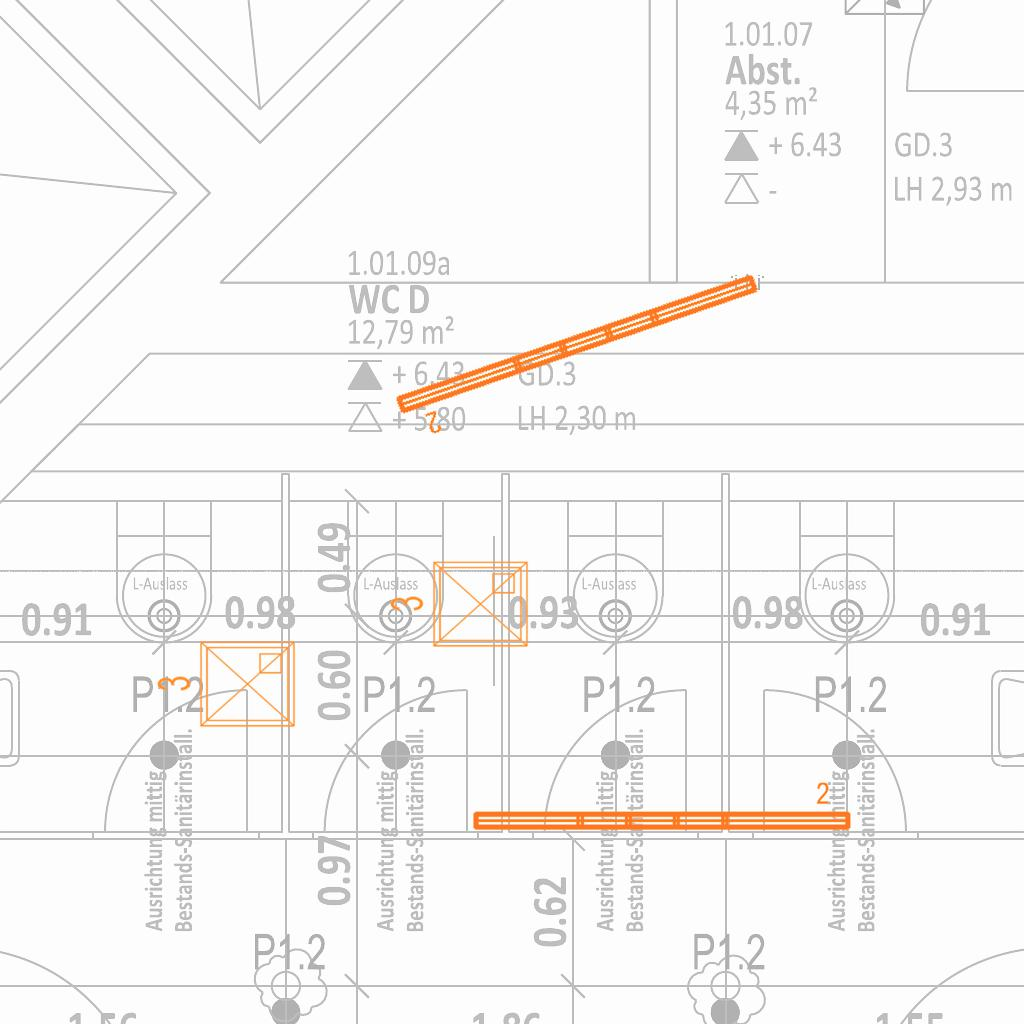Ambulanz_Pendelleuchte_LED: (389, 266, 774, 446), (468, 780, 855, 836)
Einbaudownlights_LED_Konferenzraeume: (152, 634, 302, 738), (385, 554, 535, 658)
